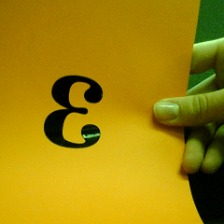orange3: (41, 72, 108, 152)
